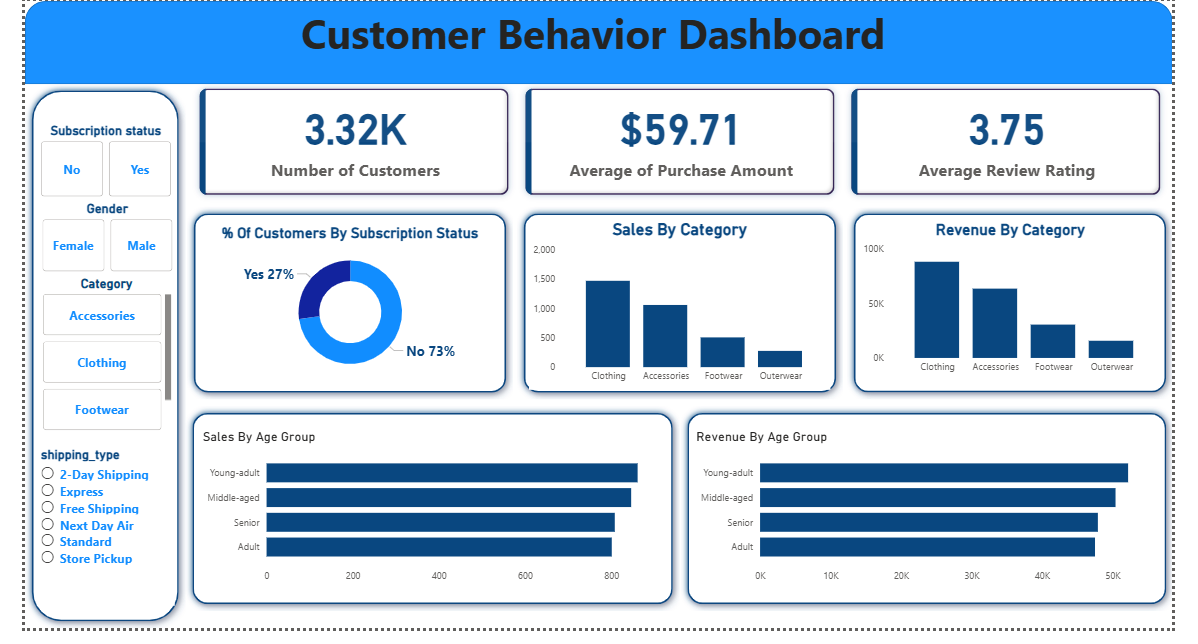

Layout of this report page (visuals, bound fields, positions):
{"tool":"powerbi","page":{"name":"Page 1","canvas":[1500,820],"ordinal":0},"visuals":[{"type":"shape","box":[1074,268,426,252],"z":0},{"type":"clusteredColumnChart","title":"Revenue By Category","fields":{"Y":["Sum(customer_db customers.purchase_amount)"],"Category":["customer_db customers.category"]},"box":[1090,286,396,210],"z":1000},{"type":"shape","box":[856,530,644,268],"z":2000},{"type":"shape","box":[210,530,646,268],"z":3000},{"type":"cardVisual","fields":{"Data":["customer_db customers.Number of Customers","customer_db customers.Average of Purchase Amount","customer_db customers.Average Review Rating"]},"box":[210.9,97.8,1289.1,171.7],"z":4000},{"type":"shape","box":[0,0,1500,108.7],"z":5000},{"type":"textbox","box":[0,0,1500,184.8],"z":6000},{"type":"shape","box":[210.9,269.6,426.1,252.2],"z":7000},{"type":"donutChart","title":"% Of Customers By Subscription Status","fields":{"Category":["customer_db customers.subscription_status"],"Y":["CountNonNull(customer_db customers.customer_id)"]},"box":[230.4,291.3,387,206.5],"z":8000},{"type":"shape","box":[642.4,269.6,426.1,252.2],"z":9000},{"type":"clusteredColumnChart","title":"Sales By Category","fields":{"Category":["customer_db customers.category"],"Y":["CountNonNull(customer_db customers.customer_id)"]},"box":[658,286,394,222],"z":10000},{"type":"shape","box":[0,108,210,712],"z":11000},{"type":"advancedSlicerVisual","title":"Subscription status","fields":{"Values":["customer_db customers.subscription_status"]},"box":[16,158,180,102],"z":12000},{"type":"advancedSlicerVisual","title":"Gender","fields":{"Values":["customer_db customers.gender"]},"box":[18,260,180,98],"z":13000},{"type":"advancedSlicerVisual","title":"Category","fields":{"Values":["customer_db customers.category"]},"box":[18,358,178,210],"z":14000},{"type":"listSlicer","fields":{"Values":["customer_db customers.shipping_type"]},"box":[16,582,180,208],"z":15000},{"type":"clusteredBarChart","title":"Revenue By Age Group","fields":{"Y":["Sum(customer_db customers.purchase_amount)"],"Category":["customer_db customers.age_group"]},"box":[872,558,610,210],"z":16000},{"type":"clusteredBarChart","title":"Sales By Age Group","fields":{"Category":["customer_db customers.age_group"],"Y":["CountNonNull(customer_db customers.customer_id)"]},"box":[228,558,610,210],"z":17000}]}

Visuals, with their boxes in screenshot pixels (x1, y1, x2, y2), scaled from the page's 1500x820 canvas onto the 1198x644 screenshot:
shape: 858,210,1197,408
"Revenue By Category" clusteredColumnChart: 871,225,1187,390
shape: 684,416,1197,627
shape: 168,416,684,627
cardVisual - customer_db customers.Number of Customers x customer_db customers.Average of Purchase Amount: 168,77,1197,212
shape: 0,0,1197,85
textbox: 0,0,1197,145
shape: 168,212,509,410
"% Of Customers By Subscription Status" donutChart: 184,229,493,391
shape: 513,212,853,410
"Sales By Category" clusteredColumnChart: 526,225,840,399
shape: 0,85,168,643
"Subscription status" advancedSlicerVisual: 13,124,157,204
"Gender" advancedSlicerVisual: 14,204,158,281
"Category" advancedSlicerVisual: 14,281,157,446
listSlicer - customer_db customers.shipping_type: 13,457,157,620
"Revenue By Age Group" clusteredBarChart: 696,438,1184,603
"Sales By Age Group" clusteredBarChart: 182,438,669,603
